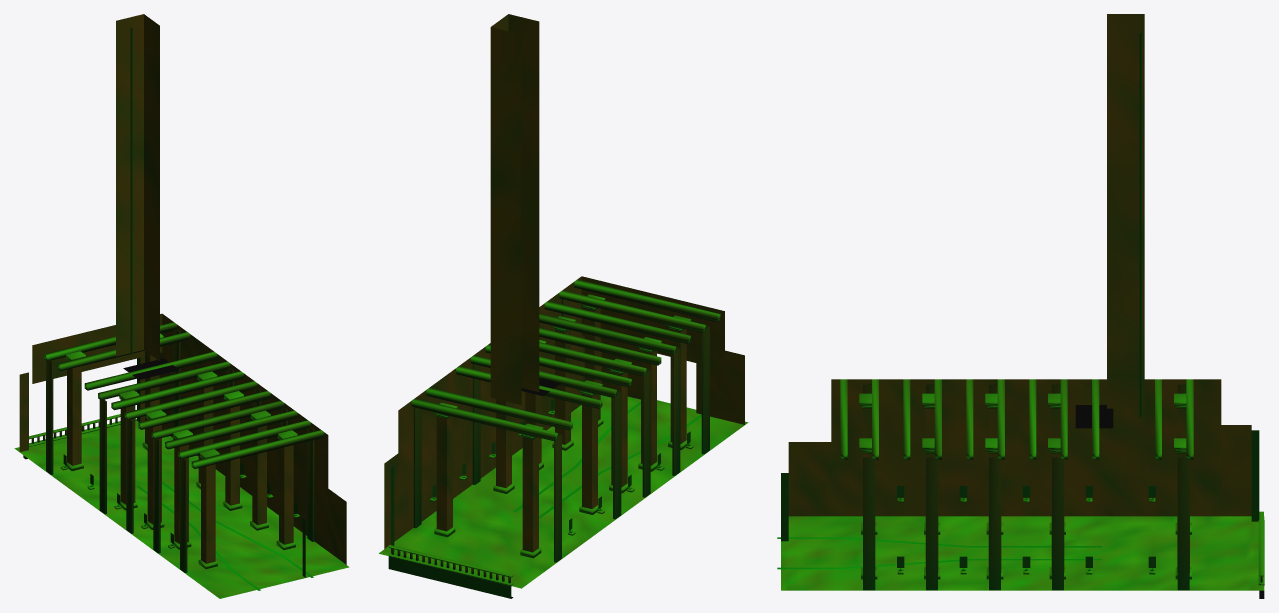
File: anvil_hall.glb
3 renders of one model, left to right at view 1: azimuth 30°, elevation 25°; view 2: azimuth 150°, elevation 25°; view 3: azimuth 270°, elevation 25°, orthographic. The views are drawn at different scales.
Parts seen in each view (by area): view 1: anvil_hall; view 2: anvil_hall; view 3: anvil_hall.
Boxes of the visible parts, <box> form: anvil_hall: <box>14,14,349,598</box>; anvil_hall: <box>379,14,748,598</box>; anvil_hall: <box>777,14,1264,598</box>.
Size of what is drawn, in the model's own units: 14 by 47.8 by 38.73.
